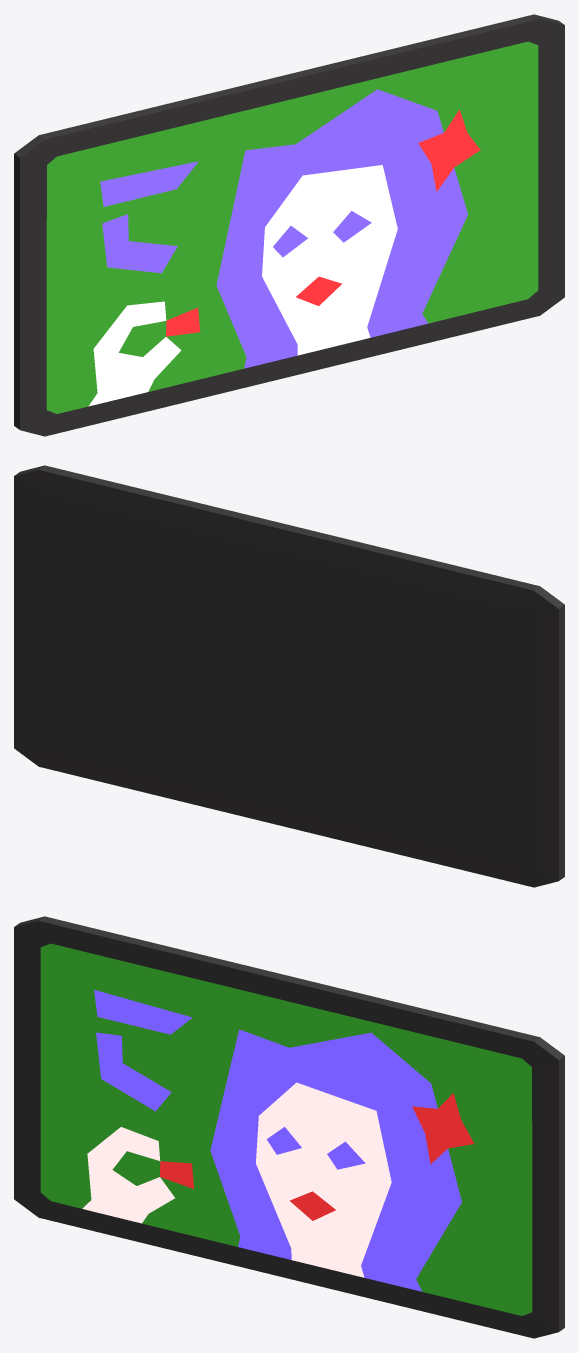
The model's file is scifi_scifi-banner-small-horizontal.fbx.
3 renders of one model, top to bottom at view 1: azimuth 30°, elevation 25°; view 2: azimuth 150°, elevation 25°; view 3: azimuth 330°, elevation 25°, orthographic.
Parts seen in each view (by area): view 1: scifi_scifi_banner_small_horizontal; view 2: scifi_scifi_banner_small_horizontal; view 3: scifi_scifi_banner_small_horizontal.
Boxes of the visible parts, <box> form: scifi_scifi_banner_small_horizontal: <box>14,14,564,436</box>; scifi_scifi_banner_small_horizontal: <box>14,465,564,887</box>; scifi_scifi_banner_small_horizontal: <box>14,916,564,1338</box>.
Bounding box in the file's own units: 200 × 104 × 4.02.
